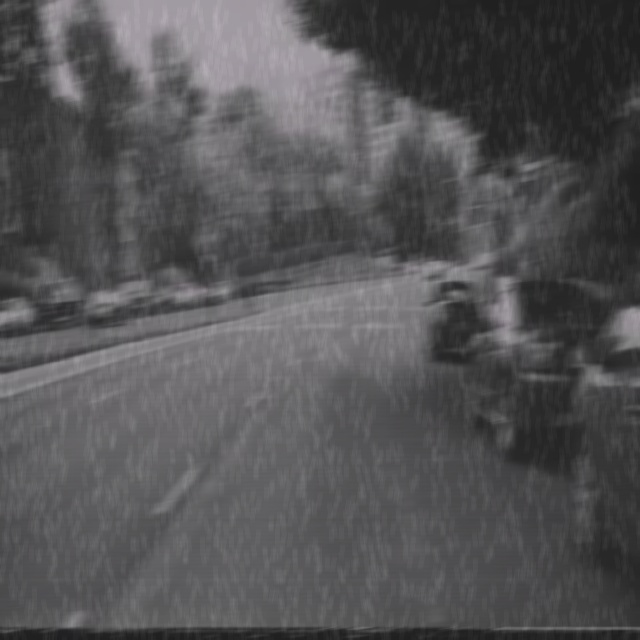signalAhead: (192, 210, 221, 266), (483, 186, 505, 229)
